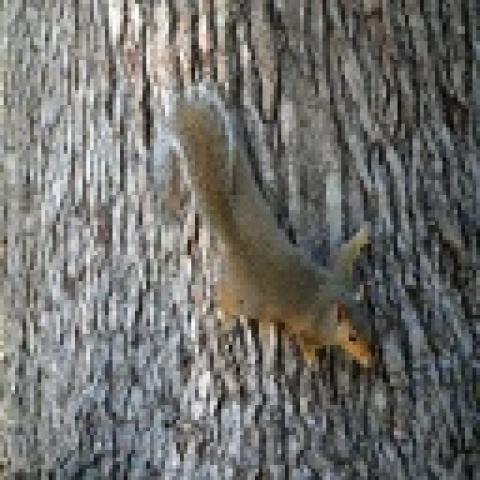small_animal: (168, 99, 382, 371)
